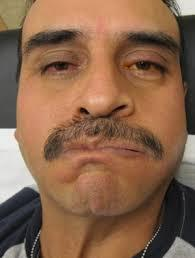normalEye: (22, 32, 179, 83)
strokeMouthMid: (50, 132, 154, 165)
